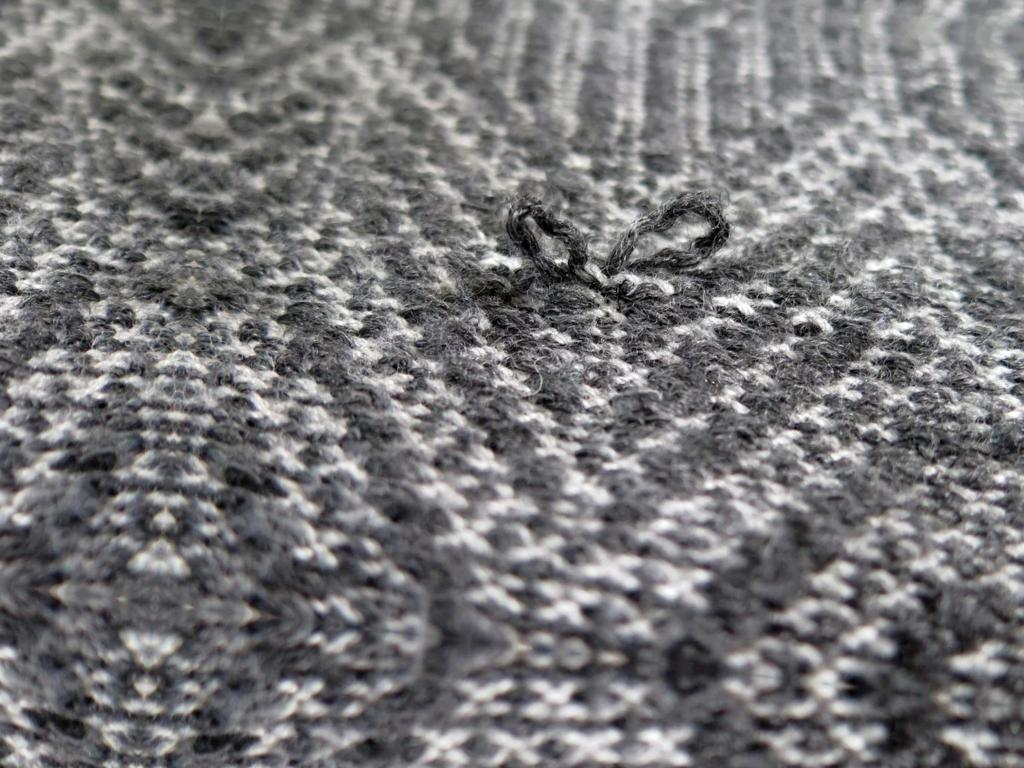snag: (604, 188, 746, 299), (497, 191, 594, 304)
